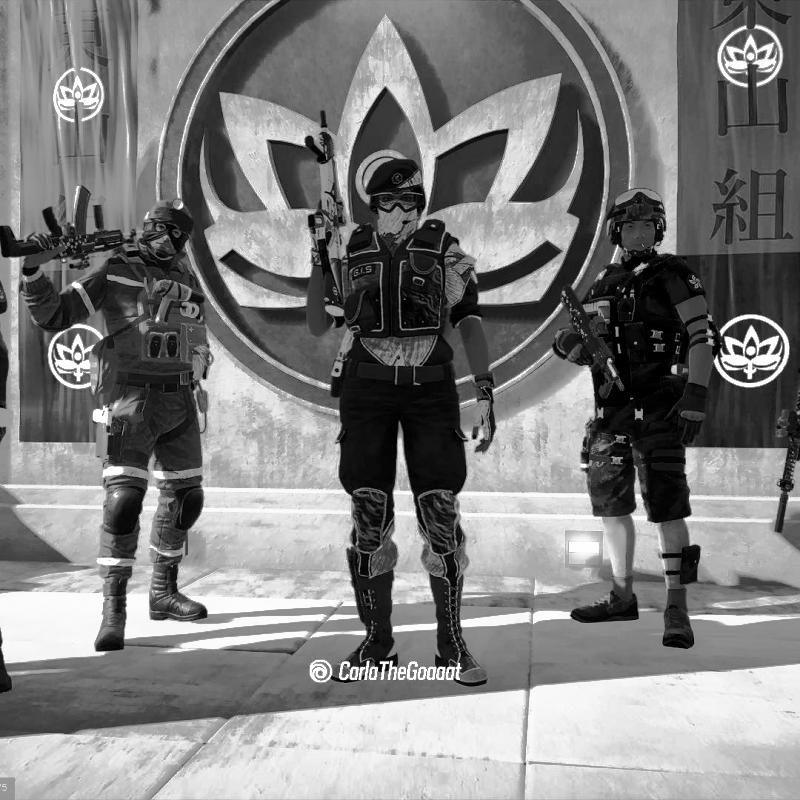Character: (305, 108, 499, 688), (0, 183, 215, 654), (549, 186, 723, 651)
Head: (365, 157, 429, 236), (606, 186, 667, 260), (140, 195, 196, 260)
